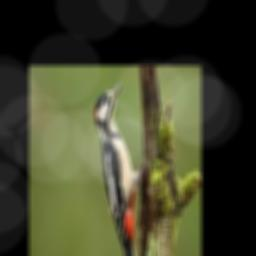Woodpecker: (95, 81, 152, 256)
